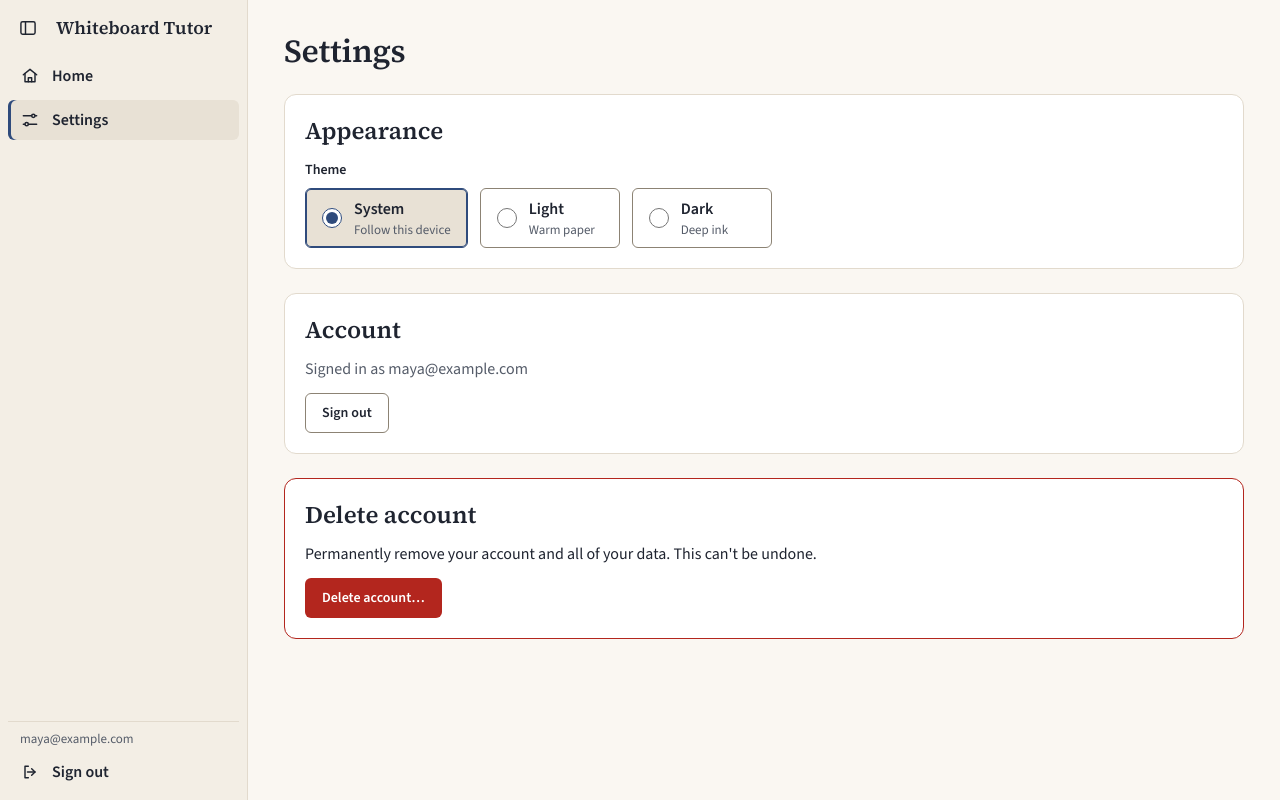
Test case: theme › reverts and shows a message when saving fails
The image size is (1280, 800).
Click the radio button labelled "Dark Deep ink" at (659, 218), box [649,208,669,228]
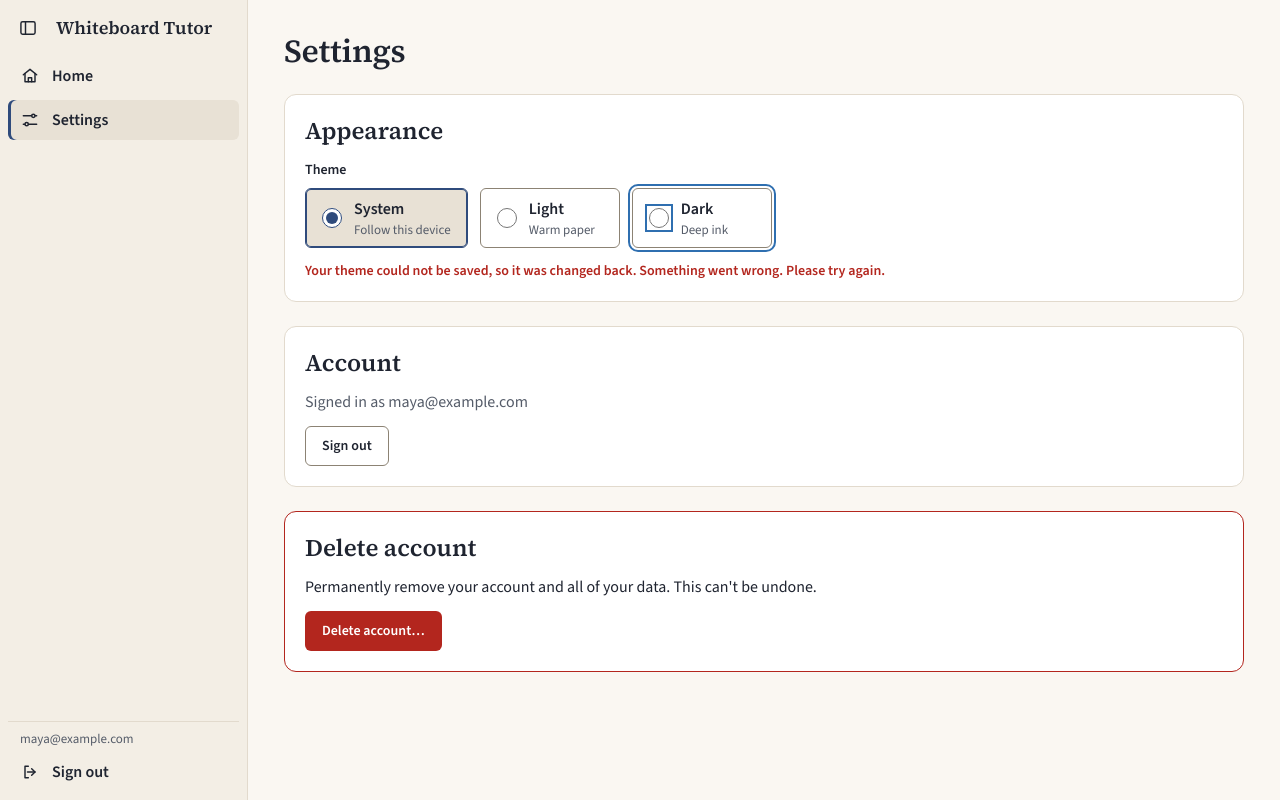
Check: the message shows "changed back", box [305,261,885,280]
